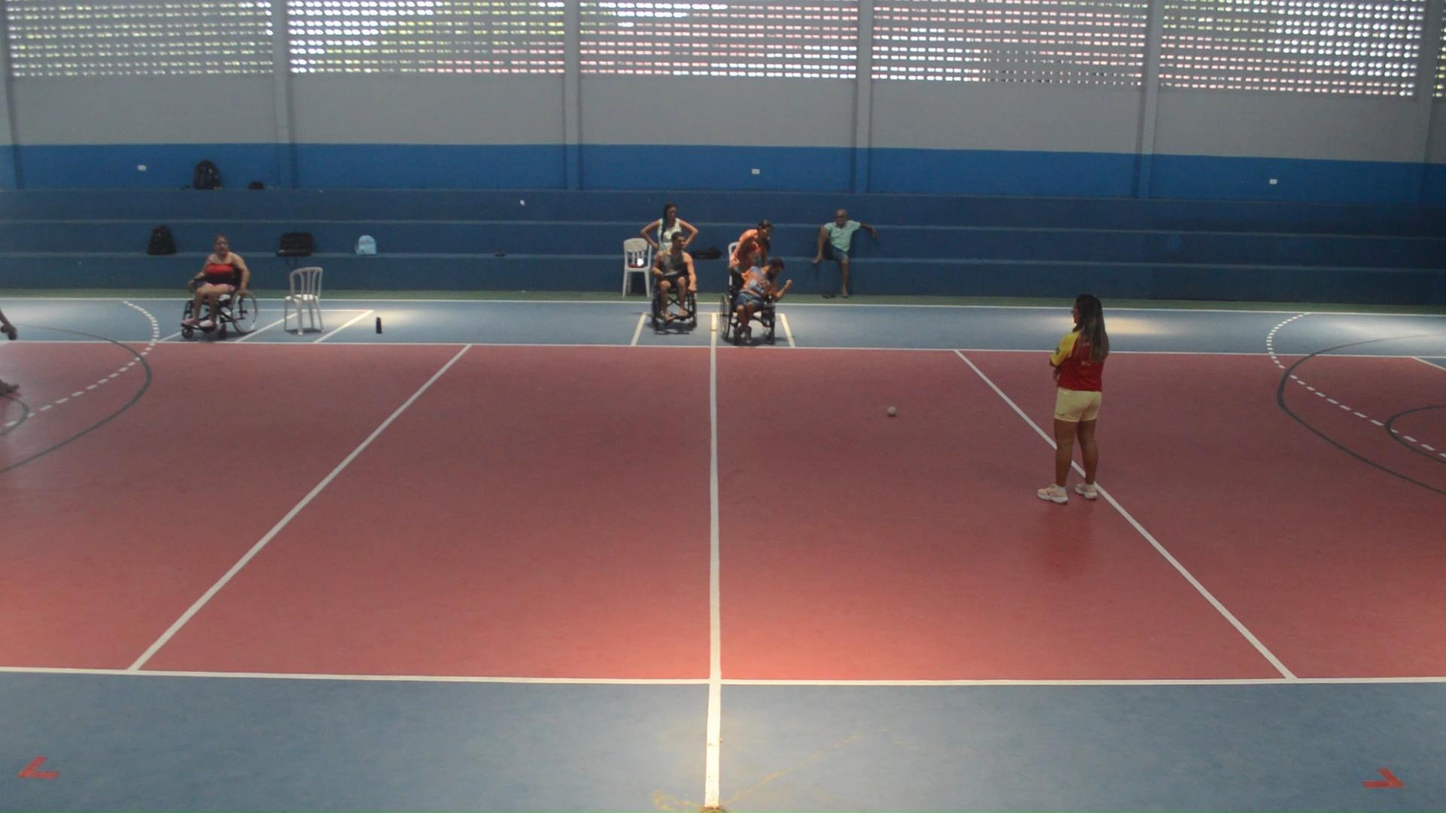white_ball: (886, 405, 898, 417)
